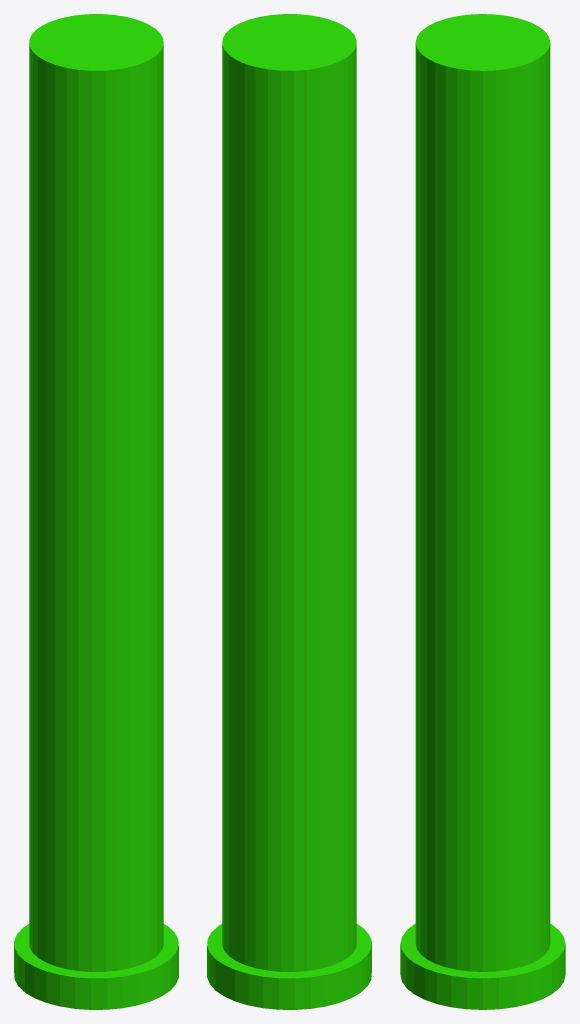
The model's file is pipe.fbx.
3 renders of one model, left to right at view 1: azimuth 30°, elevation 25°; view 2: azimuth 150°, elevation 25°; view 3: azimuth 270°, elevation 25°, orthographic.
Parts seen in each view (by area): view 1: Cylinder; view 2: Cylinder; view 3: Cylinder.
Part boxes in pixels (x1=…): Cylinder: x1=14, y1=14, x2=178, y2=1009; Cylinder: x1=207, y1=14, x2=371, y2=1009; Cylinder: x1=400, y1=14, x2=565, y2=1009.
Bounding box in the file's own units: 245 × 1527 × 245.
